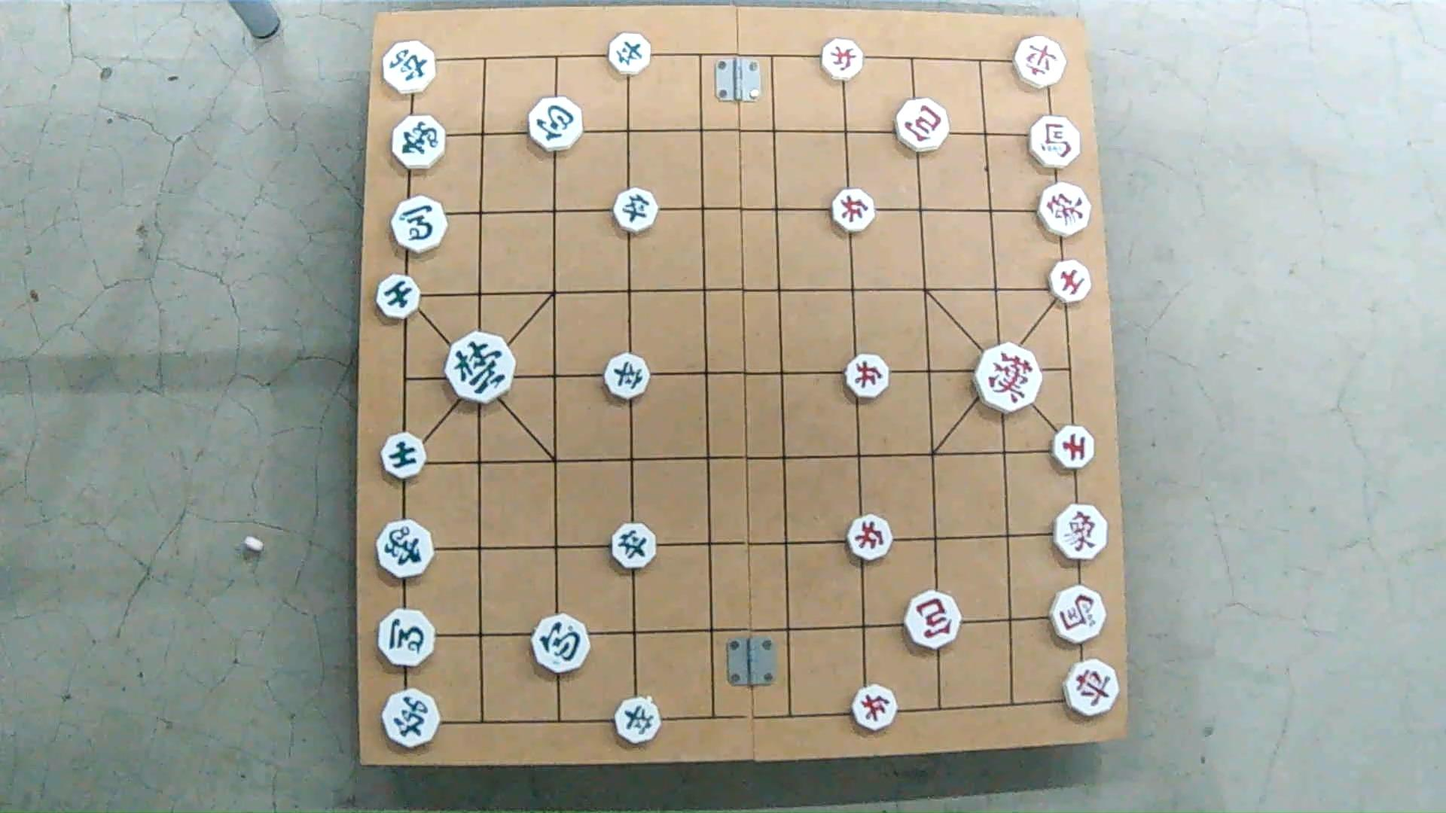cha_green: (382, 38, 439, 96), (382, 690, 441, 746)
cha_red: (1063, 658, 1118, 713), (1014, 37, 1068, 86)
jol_green: (615, 700, 664, 744), (612, 525, 658, 568), (604, 355, 651, 397), (614, 190, 659, 233), (609, 34, 651, 75)
jol_red: (831, 188, 877, 234), (850, 687, 898, 730), (847, 517, 893, 560), (846, 355, 891, 397), (818, 39, 862, 79)
ma_green: (379, 605, 437, 665), (393, 199, 448, 251)
ma_red: (1051, 587, 1108, 643), (1029, 117, 1082, 168)
po_green: (532, 613, 594, 673), (526, 99, 581, 151)
po_red: (905, 595, 961, 650), (896, 100, 952, 152)
sa_green: (382, 434, 428, 479), (379, 274, 419, 321)
sa_red: (1054, 427, 1093, 469), (1049, 259, 1091, 297)
sang_green: (376, 519, 436, 577), (391, 115, 447, 171)
sang_red: (1053, 506, 1110, 560), (1039, 181, 1091, 238)
wang_green: (445, 334, 515, 402)
wang_red: (975, 345, 1043, 410)
